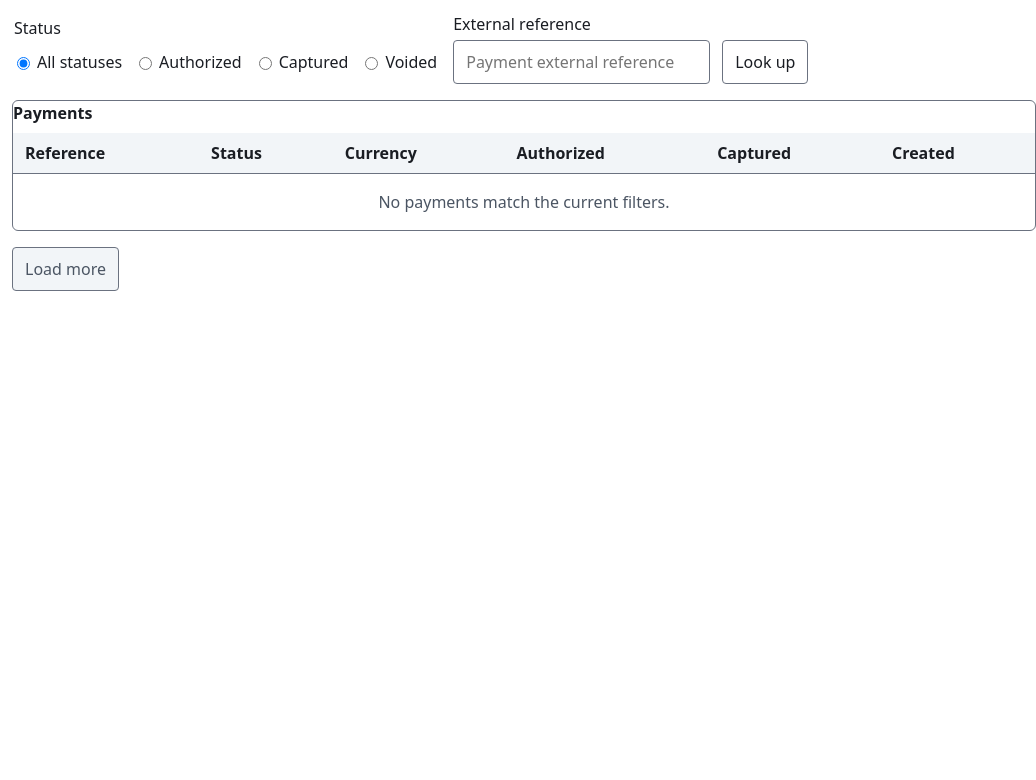
Scenario: PaymentsPage › lookup shows payment
Check: the text "No payments match the current filters." is shown, box [13,174,1035,230]
Type "ref-2" into the search field labelled "External reference".
click(582, 62); type("ref-2")  # box [453,40,710,84]
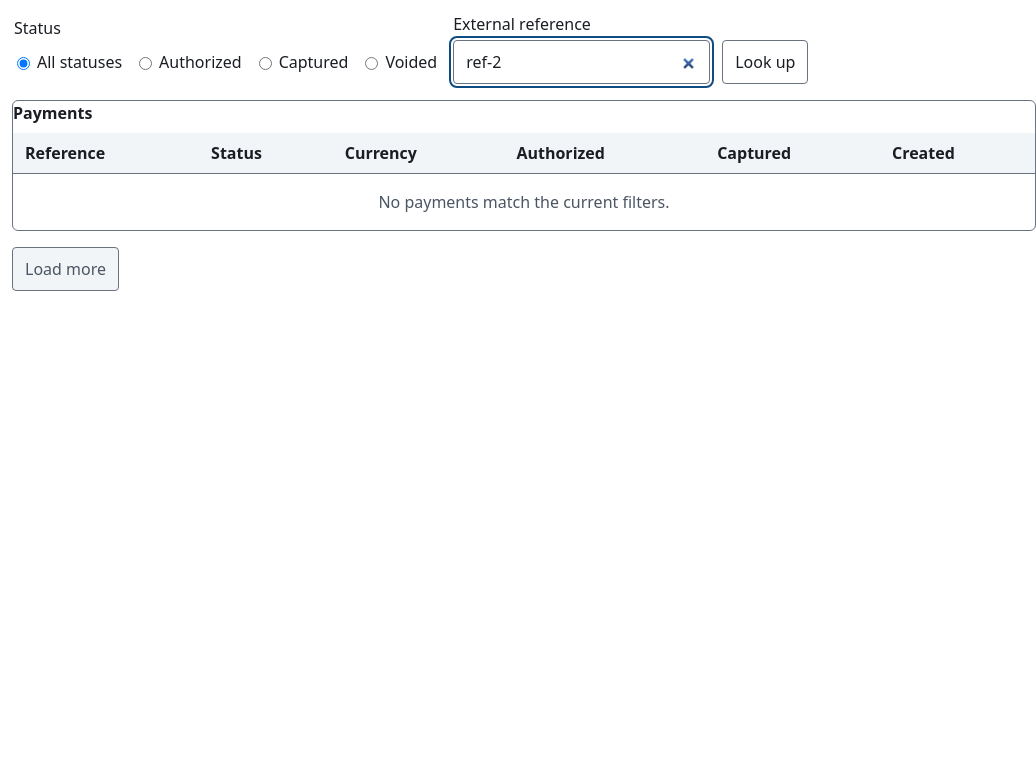
Click the button "Look up".
click(765, 62)  # box [722,40,808,84]
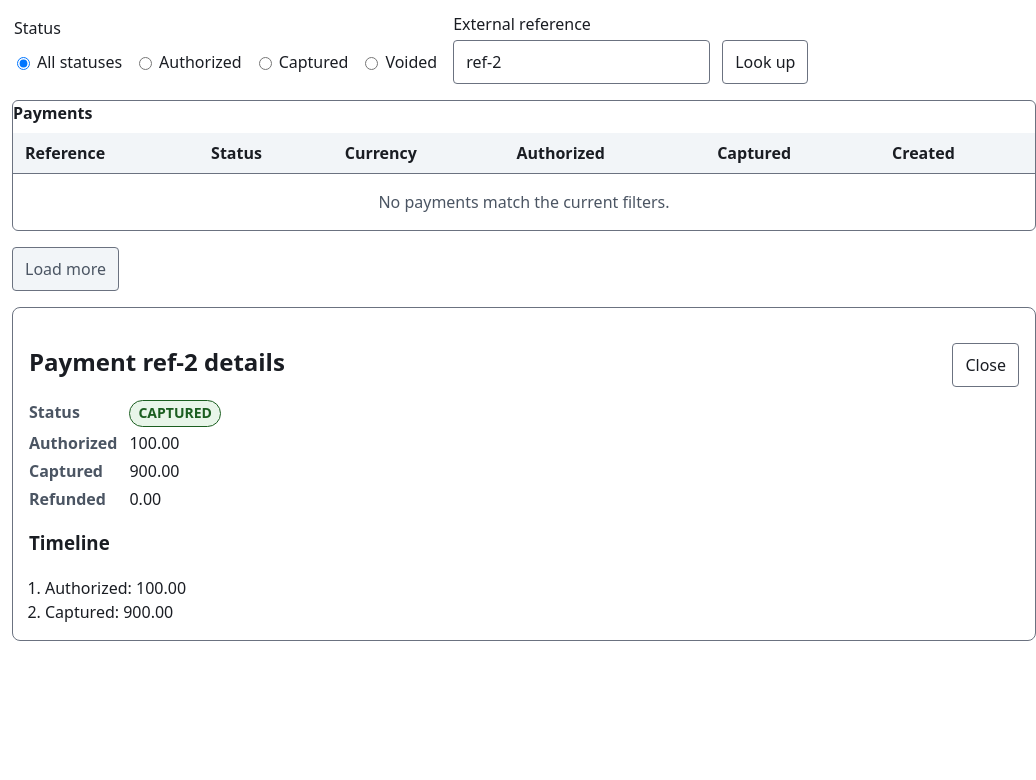
Check: the heading "Payment ref-2 details" is shown, box [29,344,285,380]
Check: the text "CAPTURED" is shown, box [130,400,221,427]
